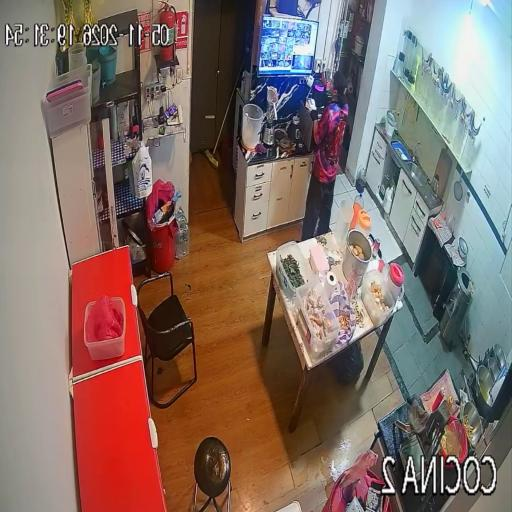Envase Ketchup: (433, 387, 446, 410)
Envase Llajua: (447, 395, 454, 404)
Jarra1: (388, 263, 404, 296)
Jarra2: (355, 210, 371, 236)
Jarra3: (334, 198, 354, 246)
Microondas: (298, 102, 313, 150)
Persona1: (303, 72, 349, 239)
Tapa de olla: (459, 237, 468, 255)
Taper: (466, 280, 475, 300)
Taper2: (275, 241, 313, 301)
Taper3: (294, 280, 339, 358)
Taper4: (362, 270, 396, 325)
olla1: (343, 229, 371, 289)
